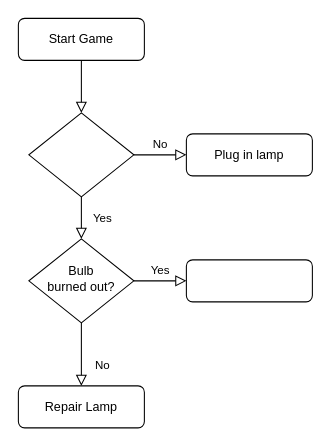
The diagram is 331 pixels wide and 446 high, and some of its shapes have lost their labels. The centre of each missing label's shape, as x and y in pixels:
"Lamp plugged in?" goes at point 81,154.
"Replace Bulb" goes at point 248,280.
